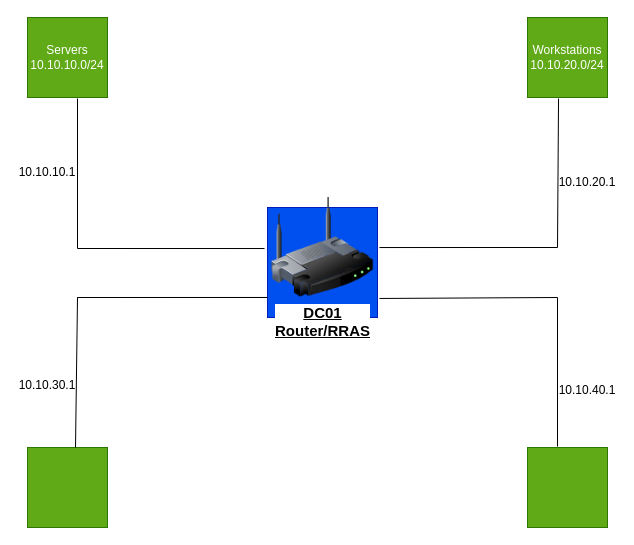
Some shapes in this 634 by 545 pixel diagram are drawn without their labels. Here are the shapes that lost their labels. From the top down, the centre of each, then its label:
At [67,487]: "Management 10.10.30.0/24".
At [567,487]: "Guest 10.10.40.0/24".
